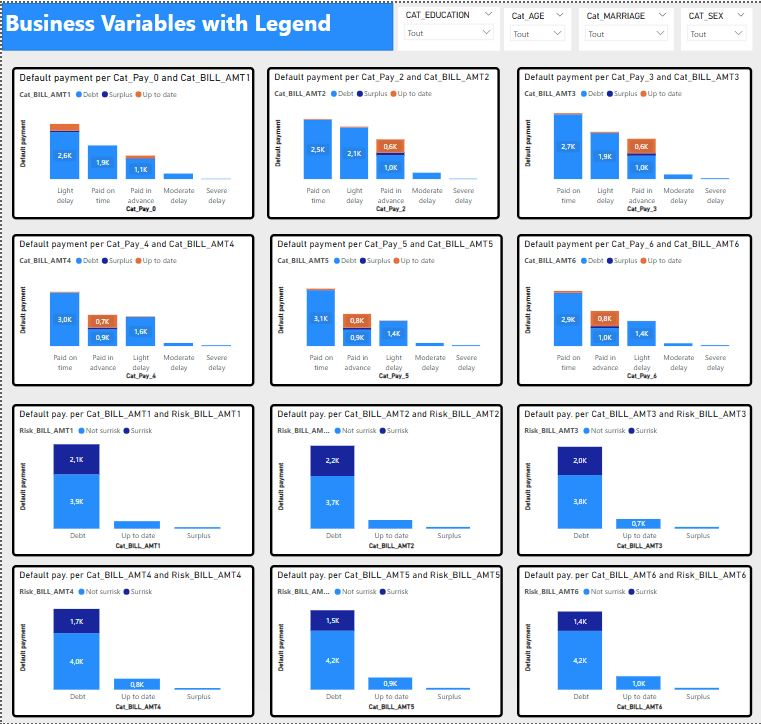

The dashboard page shown, as its layout file describes it:
{"tool":"powerbi","page":{"name":"Analyse Bivariée","canvas":[1280,1200],"ordinal":2},"visuals":[{"type":"slicer","fields":{"Values":["Credit_card.CAT_EDUCATION"]},"box":[659.8,5.9,170,73.2],"z":0},{"type":"slicer","fields":{"Values":["Credit_card.Cat_AGE"]},"box":[836.5,8.4,111.9,70.7],"z":1000},{"type":"slicer","fields":{"Values":["Credit_card.Cat_MARRIAGE"]},"box":[961.1,8.4,158.2,70.7],"z":2000},{"type":"slicer","fields":{"Values":["Credit_card.CAT_SEX"]},"box":[1131,8.4,118.7,70.7],"z":3000},{"type":"columnChart","title":"Default payment per Cat_Pay_0 and Cat_BILL_AMT1","fields":{"Category":["Credit_card.Cat_Pay_0"],"Y":["Sum(Credit_card.default payment next month)"],"Series":["Credit_Bank_Data.Cat_BILL_AMT1"]},"box":[15.9,105.9,403.9,253.8],"z":4000},{"type":"columnChart","title":"Default payment per Cat_Pay_2 and Cat_BILL_AMT2","fields":{"Y":["Sum(Credit_card.default payment next month)"],"Category":["Credit_card.Cat_Pay_2"],"Series":["Credit_Bank_Data.Cat_BILL_AMT2"]},"box":[441.7,105.9,388,253.8],"z":5000},{"type":"columnChart","title":"Default payment per Cat_Pay_3 and Cat_BILL_AMT3","fields":{"Y":["Sum(Credit_card.default payment next month)"],"Category":["Credit_card.Cat_Pay_3"],"Series":["Credit_Bank_Data.Cat_BILL_AMT3"]},"box":[857.8,105.9,391.7,253.8],"z":6000},{"type":"columnChart","title":"Default payment per Cat_Pay_4 and Cat_BILL_AMT4","fields":{"Y":["Sum(Credit_card.default payment next month)"],"Category":["Credit_card.Cat_Pay_4"],"Series":["Credit_Bank_Data.Cat_BILL_AMT4"]},"box":[15.9,385.3,403.9,253.8],"z":7000},{"type":"columnChart","title":"Default payment per Cat_Pay_5 and Cat_BILL_AMT5","fields":{"Y":["Sum(Credit_card.default payment next month)"],"Category":["Credit_card.Cat_Pay_5"],"Series":["Credit_Bank_Data.Cat_BILL_AMT5"]},"box":[446.6,385.3,388,253.8],"z":8000},{"type":"columnChart","title":"Default payment per Cat_Pay_6 and Cat_BILL_AMT6","fields":{"Y":["Sum(Credit_card.default payment next month)"],"Category":["Credit_card.Cat_Pay_6"],"Series":["Credit_Bank_Data.Cat_BILL_AMT6"]},"box":[857.8,385.3,391.7,253.8],"z":9000},{"type":"columnChart","title":"Default pay. per Cat_BILL_AMT1 and Risk_BILL_AMT1","fields":{"Category":["Credit_card.Cat_BILL_AMT1"],"Y":["Sum(Credit_Bank_Data.default payment next month)"],"Series":["Credit_Bank_Data.Risk_BILL_AMT1"]},"box":[15.9,668.7,403.9,253.8],"z":10000},{"type":"columnChart","title":"Default pay. per Cat_BILL_AMT2 and Risk_BILL_AMT2","fields":{"Category":["Credit_card.Cat_BILL_AMT2"],"Y":["Sum(Credit_Bank_Data.default payment next month)"],"Series":["Credit_Bank_Data.Risk_BILL_AMT2"]},"box":[446.6,668.7,388,253.8],"z":11000},{"type":"columnChart","title":"Default pay. per Cat_BILL_AMT3 and Risk_BILL_AMT3","fields":{"Category":["Credit_card.Cat_BILL_AMT3"],"Y":["Sum(Credit_Bank_Data.default payment next month)"],"Series":["Credit_Bank_Data.Risk_BILL_AMT3"]},"box":[857.8,668.7,391.7,253.8],"z":12000},{"type":"columnChart","title":"Default pay. per Cat_BILL_AMT4 and Risk_BILL_AMT4","fields":{"Category":["Credit_card.Cat_BILL_AMT4"],"Y":["Sum(Credit_Bank_Data.default payment next month)"],"Series":["Credit_Bank_Data.Risk_BILL_AMT4"]},"box":[15.9,935.9,403.9,253.8],"z":13000},{"type":"columnChart","title":"Default pay. per Cat_BILL_AMT5 and Risk_BILL_AMT5","fields":{"Category":["Credit_card.Cat_BILL_AMT5"],"Y":["Sum(Credit_Bank_Data.default payment next month)"],"Series":["Credit_Bank_Data.Risk_BILL_AMT5"]},"box":[446.6,935.9,388,253.8],"z":14000},{"type":"columnChart","title":"Default pay. per Cat_BILL_AMT6 and Risk_BILL_AMT6","fields":{"Category":["Credit_card.Cat_BILL_AMT6"],"Y":["Sum(Credit_Bank_Data.default payment next month)"],"Series":["Credit_Bank_Data.Risk_BILL_AMT6"]},"box":[857.8,935.9,391.7,253.8],"z":15000},{"type":"shape","box":[0,0,651.6,79.3],"z":16000},{"type":"textbox","box":[0,2.4,651.6,73.2],"z":17000}]}

Visuals, with their boxes in screenshot pixels (x1, y1, x2, y2), scaled from the page's 1280x1200 canvas onto the 761x724 screenshot:
slicer - Credit_card.CAT_EDUCATION: left=392, top=4, right=493, bottom=48
slicer - Credit_card.Cat_AGE: left=497, top=5, right=564, bottom=48
slicer - Credit_card.Cat_MARRIAGE: left=571, top=5, right=665, bottom=48
slicer - Credit_card.CAT_SEX: left=672, top=5, right=743, bottom=48
"Default payment per Cat_Pay_0 and Cat_BILL_AMT1" columnChart: left=9, top=64, right=250, bottom=217
"Default payment per Cat_Pay_2 and Cat_BILL_AMT2" columnChart: left=263, top=64, right=493, bottom=217
"Default payment per Cat_Pay_3 and Cat_BILL_AMT3" columnChart: left=510, top=64, right=743, bottom=217
"Default payment per Cat_Pay_4 and Cat_BILL_AMT4" columnChart: left=9, top=232, right=250, bottom=386
"Default payment per Cat_Pay_5 and Cat_BILL_AMT5" columnChart: left=266, top=232, right=496, bottom=386
"Default payment per Cat_Pay_6 and Cat_BILL_AMT6" columnChart: left=510, top=232, right=743, bottom=386
"Default pay. per Cat_BILL_AMT1 and Risk_BILL_AMT1" columnChart: left=9, top=403, right=250, bottom=557
"Default pay. per Cat_BILL_AMT2 and Risk_BILL_AMT2" columnChart: left=266, top=403, right=496, bottom=557
"Default pay. per Cat_BILL_AMT3 and Risk_BILL_AMT3" columnChart: left=510, top=403, right=743, bottom=557
"Default pay. per Cat_BILL_AMT4 and Risk_BILL_AMT4" columnChart: left=9, top=565, right=250, bottom=718
"Default pay. per Cat_BILL_AMT5 and Risk_BILL_AMT5" columnChart: left=266, top=565, right=496, bottom=718
"Default pay. per Cat_BILL_AMT6 and Risk_BILL_AMT6" columnChart: left=510, top=565, right=743, bottom=718
shape: left=0, top=0, right=387, bottom=48
textbox: left=0, top=1, right=387, bottom=46
